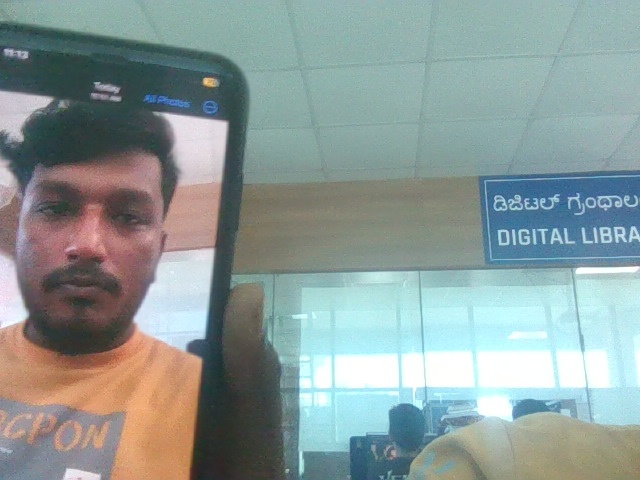fake: (0, 71, 202, 358)
